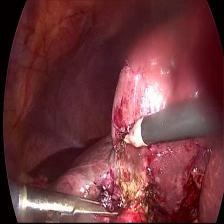Grasper: (22, 177, 122, 224)
Hook: (114, 117, 146, 154)
